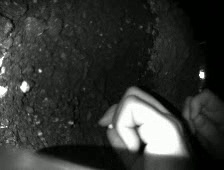corn: (108, 124, 113, 129)
